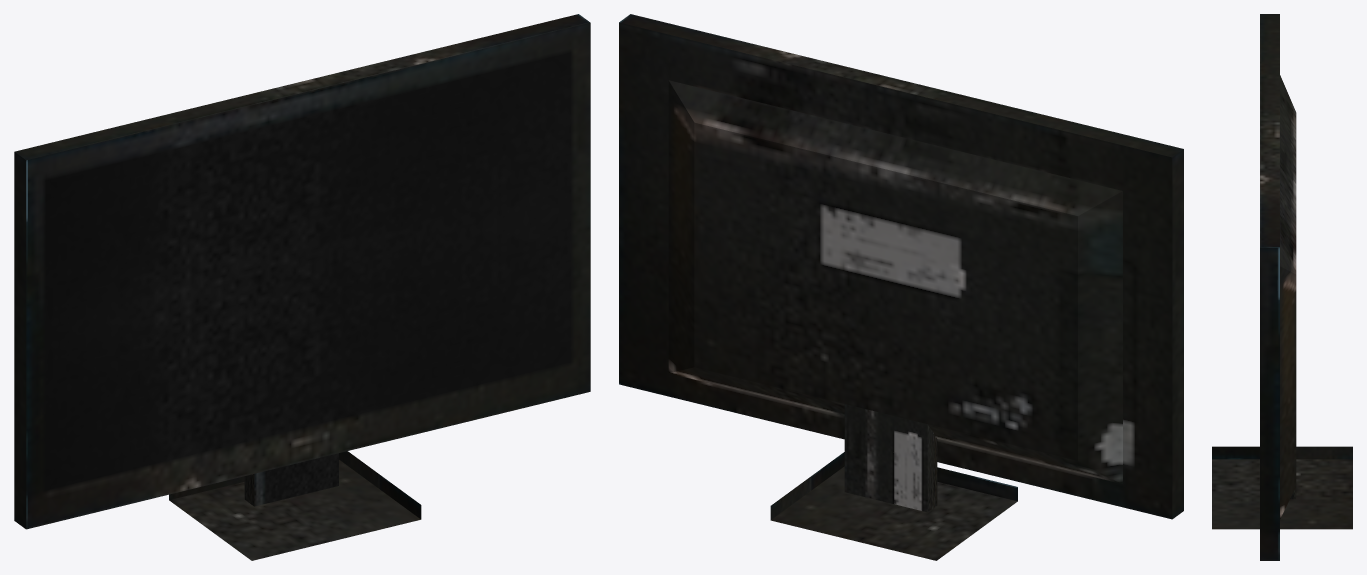
File: Television01b.obj
The picture shows the model from 3 angles, left to right: view 1: azimuth 30°, elevation 25°; view 2: azimuth 150°, elevation 25°; view 3: azimuth 270°, elevation 25°; orthographic projection. The views are drawn at different scales.
Parts seen in each view (by area): view 1: Television01b; view 2: Television01b; view 3: Television01b.
Boxes of the visible parts, left/top/right/bottom form: Television01b: left=14, top=14, right=590, bottom=560; Television01b: left=619, top=14, right=1183, bottom=560; Television01b: left=1212, top=14, right=1352, bottom=560.
Bounding box in the file's own units: 2 × 1.45 × 0.5094.
